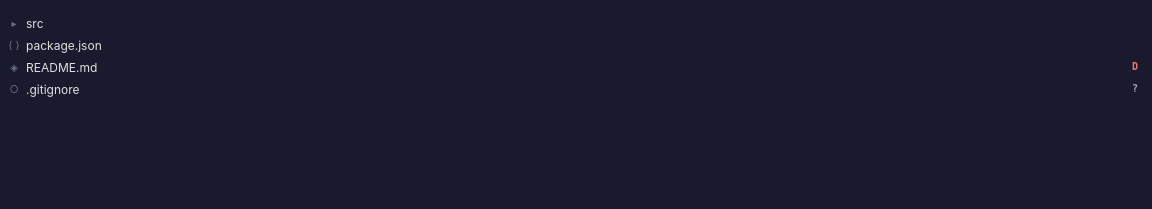
FileTree › shows nested directories when parent expanded
Click the text "src" at (35, 23), box x1=26 y1=16 x2=44 y2=30
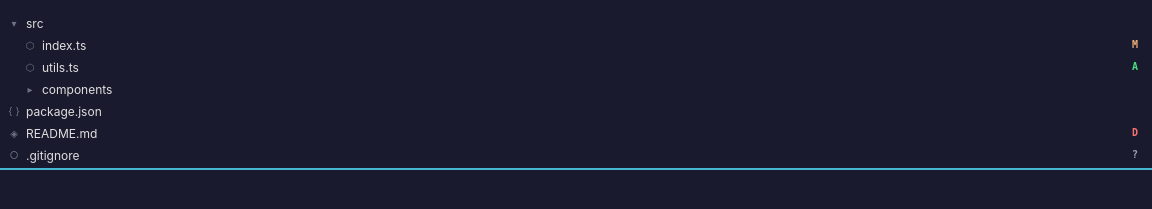
Click the text "components" at (77, 89), box x1=42 y1=82 x2=112 y2=96
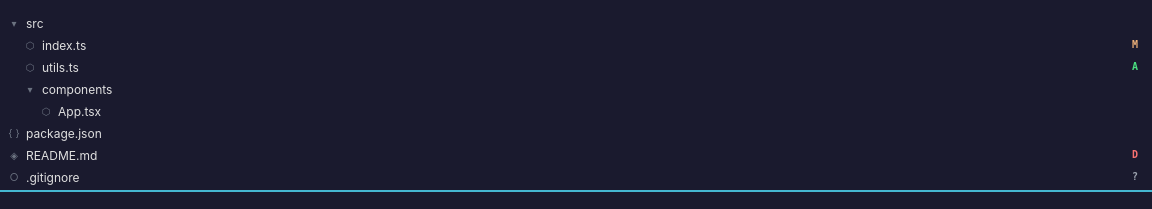
Now the text "App.tsx" is shown, box x1=58 y1=104 x2=101 y2=118
